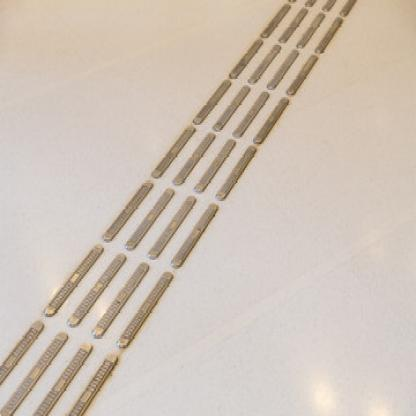podotacti: (1, 1, 354, 412)
